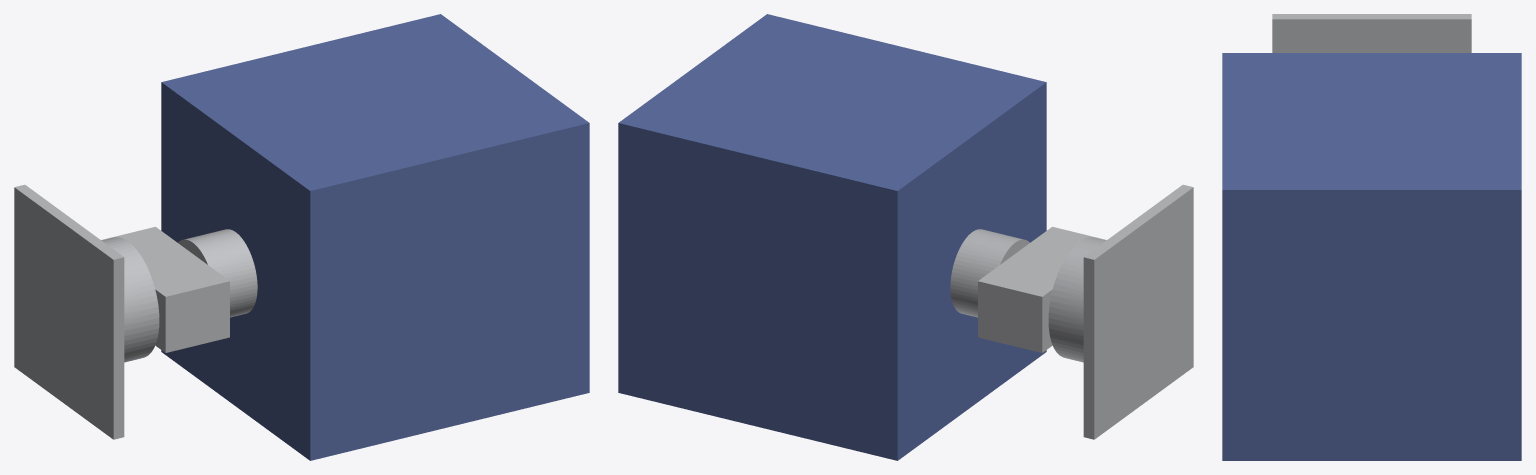
Rendered from power02_iontug_array.glb.
The picture shows the model from 3 angles, left to right: view 1: azimuth 30°, elevation 25°; view 2: azimuth 150°, elevation 25°; view 3: azimuth 270°, elevation 25°; orthographic projection.
Parts seen in each view (by area): view 1: folded_panel_stack, gimbal; view 2: folded_panel_stack, gimbal; view 3: folded_panel_stack, gimbal.
Part boxes in pixels (bbox=[...]): folded_panel_stack: bbox=[161, 14, 589, 460]; gimbal: bbox=[14, 184, 257, 439]; folded_panel_stack: bbox=[618, 14, 1046, 460]; gimbal: bbox=[950, 184, 1193, 439]; folded_panel_stack: bbox=[1222, 53, 1521, 460]; gimbal: bbox=[1272, 14, 1471, 52].
Size of the model in its own units: 4.2 by 2.4 by 2.4.
